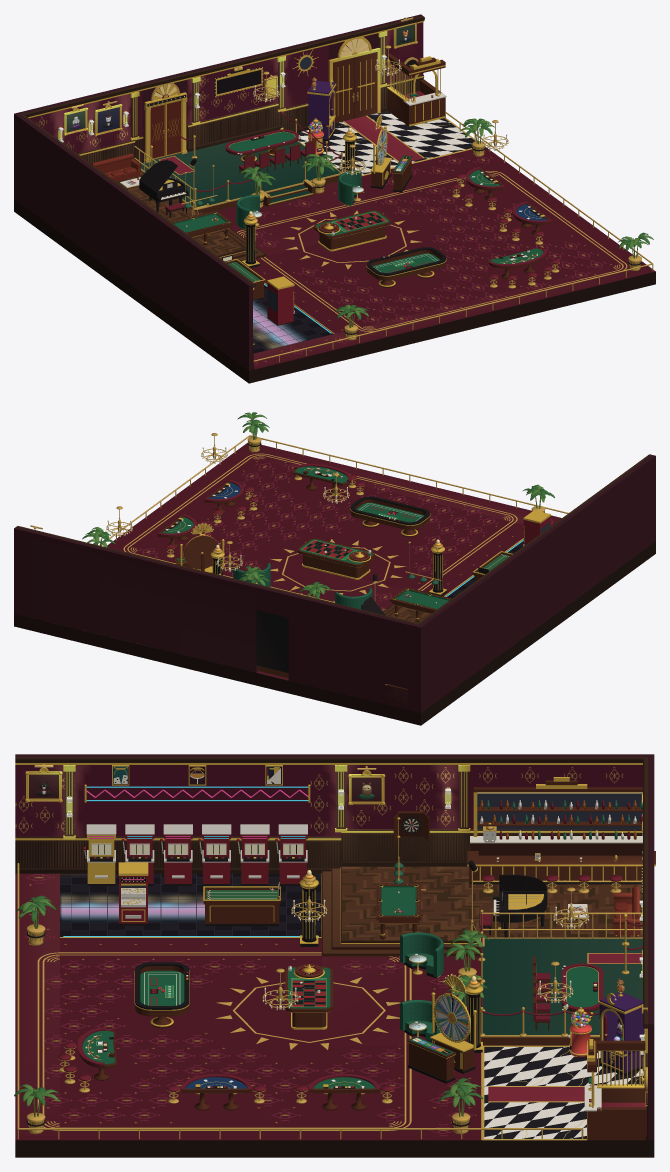
The model's file is casino.glb.
3 renders of one model, top to bottom at view 1: azimuth 30°, elevation 25°; view 2: azimuth 150°, elevation 25°; view 3: azimuth 270°, elevation 25°, orthographic. The views are drawn at different scales.
Visible parts, largest first — view 1: Casino_Static, Prop_VipDoorR, Prop_VipDoorL, Prop_Marquee; view 2: Casino_Static, Prop_BigSixWheel; view 3: Casino_Static, Prop_BigSixWheel.
Boxes of the visible parts, x1,y1,x2,y2 form: Casino_Static: (14,14,655,383); Prop_VipDoorR: (165,99,182,156); Prop_VipDoorL: (150,103,165,159); Prop_Marquee: (217,70,260,93); Casino_Static: (14,412,655,725); Prop_BigSixWheel: (183,535,218,569); Casino_Static: (14,754,655,1157); Prop_BigSixWheel: (433,993,470,1042).
Size of the model in its own units: 20.09 by 5.14 by 20.09.
